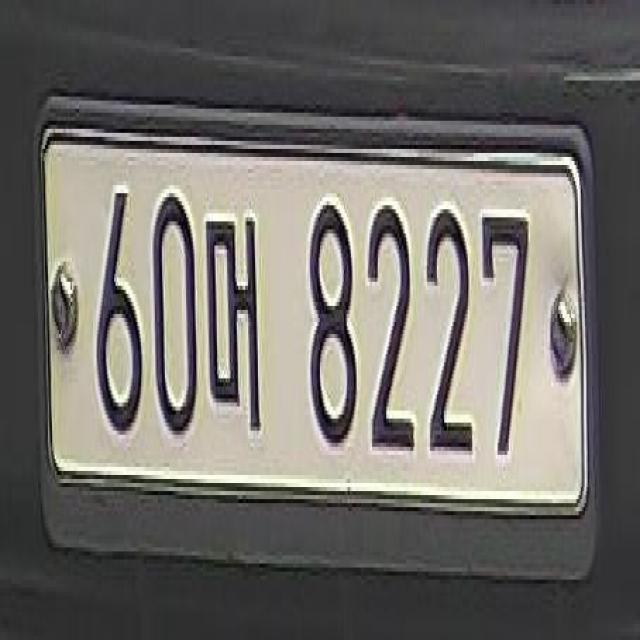0: (150, 171, 200, 440)
2: (423, 179, 477, 468), (363, 180, 418, 463)
6: (86, 175, 144, 444)
7: (479, 178, 534, 472)
8: (303, 180, 359, 450)
license_plate: (31, 76, 604, 594)
meo: (203, 198, 270, 449)
